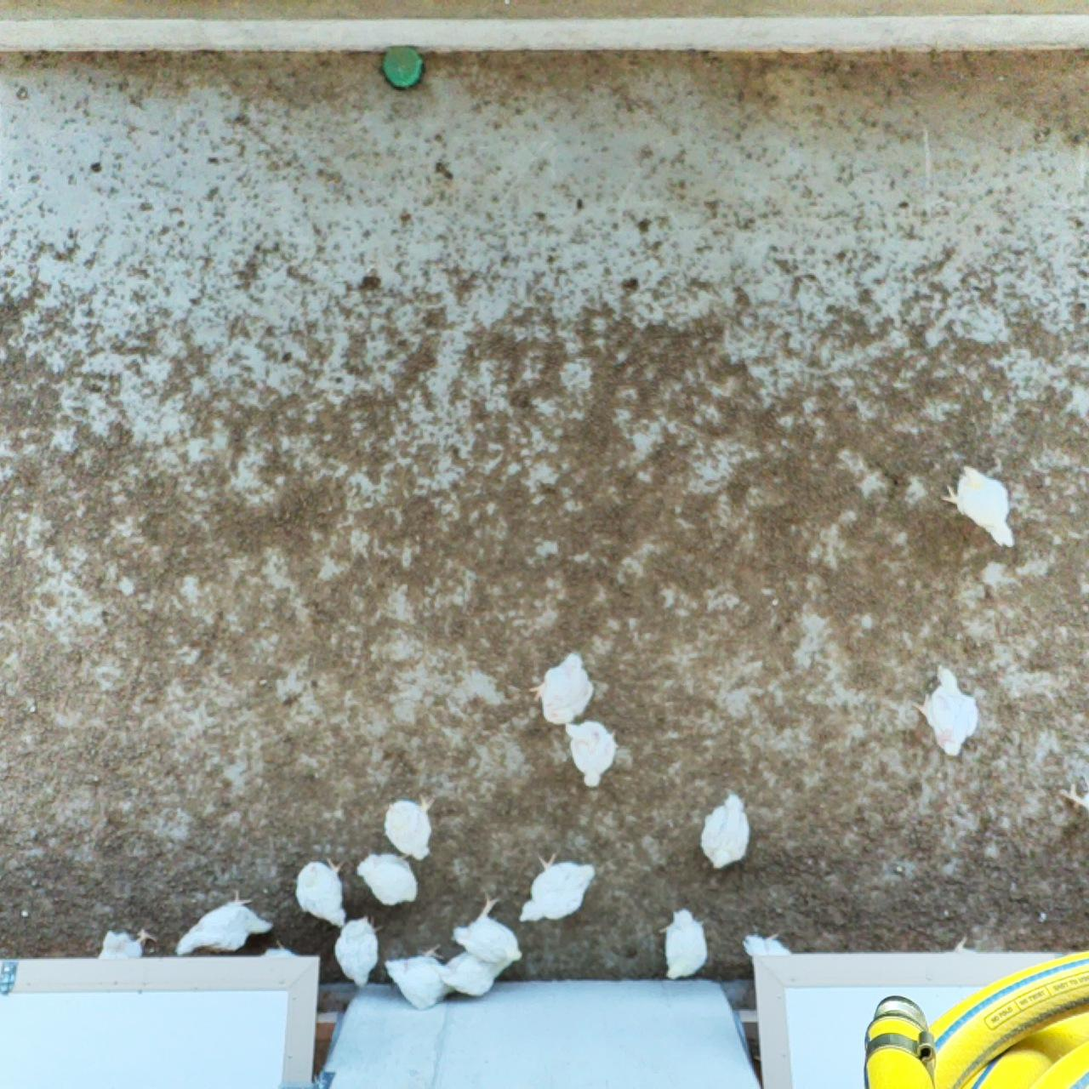chicken: (174, 890, 273, 956), (518, 851, 599, 924), (945, 466, 1017, 547), (915, 665, 979, 756), (531, 651, 597, 727), (453, 893, 525, 961), (386, 944, 452, 1008), (337, 915, 389, 988), (297, 857, 349, 928), (565, 723, 618, 790), (384, 790, 437, 857), (704, 791, 749, 869), (660, 909, 708, 978), (360, 853, 421, 904), (446, 951, 514, 996), (95, 928, 160, 957), (742, 932, 790, 958)
